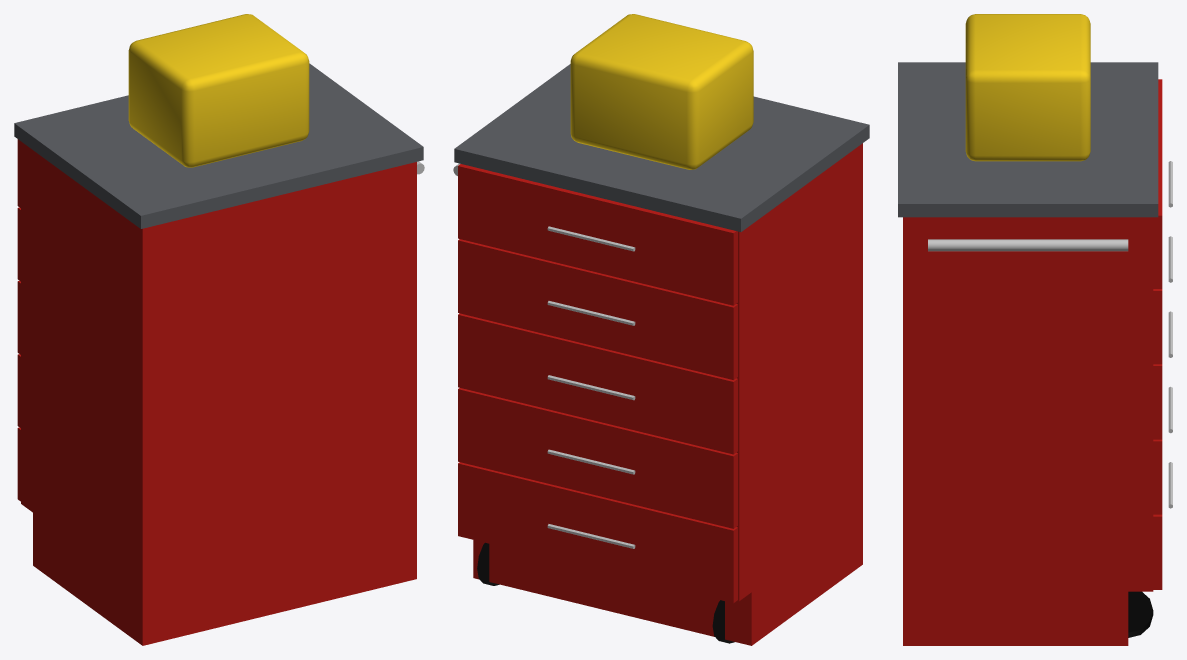
The model's file is hospital.ward.crash_cart.glb.
The picture shows the model from 3 angles, left to right: view 1: azimuth 30°, elevation 25°; view 2: azimuth 150°, elevation 25°; view 3: azimuth 270°, elevation 25°; orthographic projection. The views are drawn at different scales.
Parts seen in each view (by area): view 1: main__plastic_red, main__plastic_grey, main__plastic_yellow; view 2: main__plastic_red, main__plastic_grey, main__plastic_yellow, main__steel_stainless, main__rubber; view 3: main__plastic_red, main__plastic_grey, main__plastic_yellow, main__steel_stainless, main__rubber.
Boxes of the visible parts, x1,y1,x2,y2 form: main__plastic_red: (17,139,416,645); main__plastic_grey: (14,63,423,228); main__plastic_yellow: (128,14,309,167); main__plastic_red: (458,143,862,645); main__plastic_grey: (454,64,869,231); main__plastic_yellow: (570,14,753,169); main__steel_stainless: (453,163,635,548); main__rubber: (477,542,734,643); main__plastic_red: (903,79,1162,645); main__plastic_grey: (898,62,1158,217); main__plastic_yellow: (965,14,1090,161); main__steel_stainless: (928,161,1172,508); main__rubber: (1128,591,1153,637).
Bounding box in the file's own units: 0.707 × 1.18 × 0.5493.
